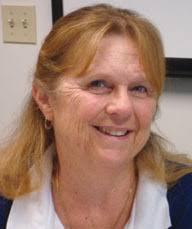normalEye: (81, 68, 151, 102)
normalMouth: (87, 122, 137, 146)
